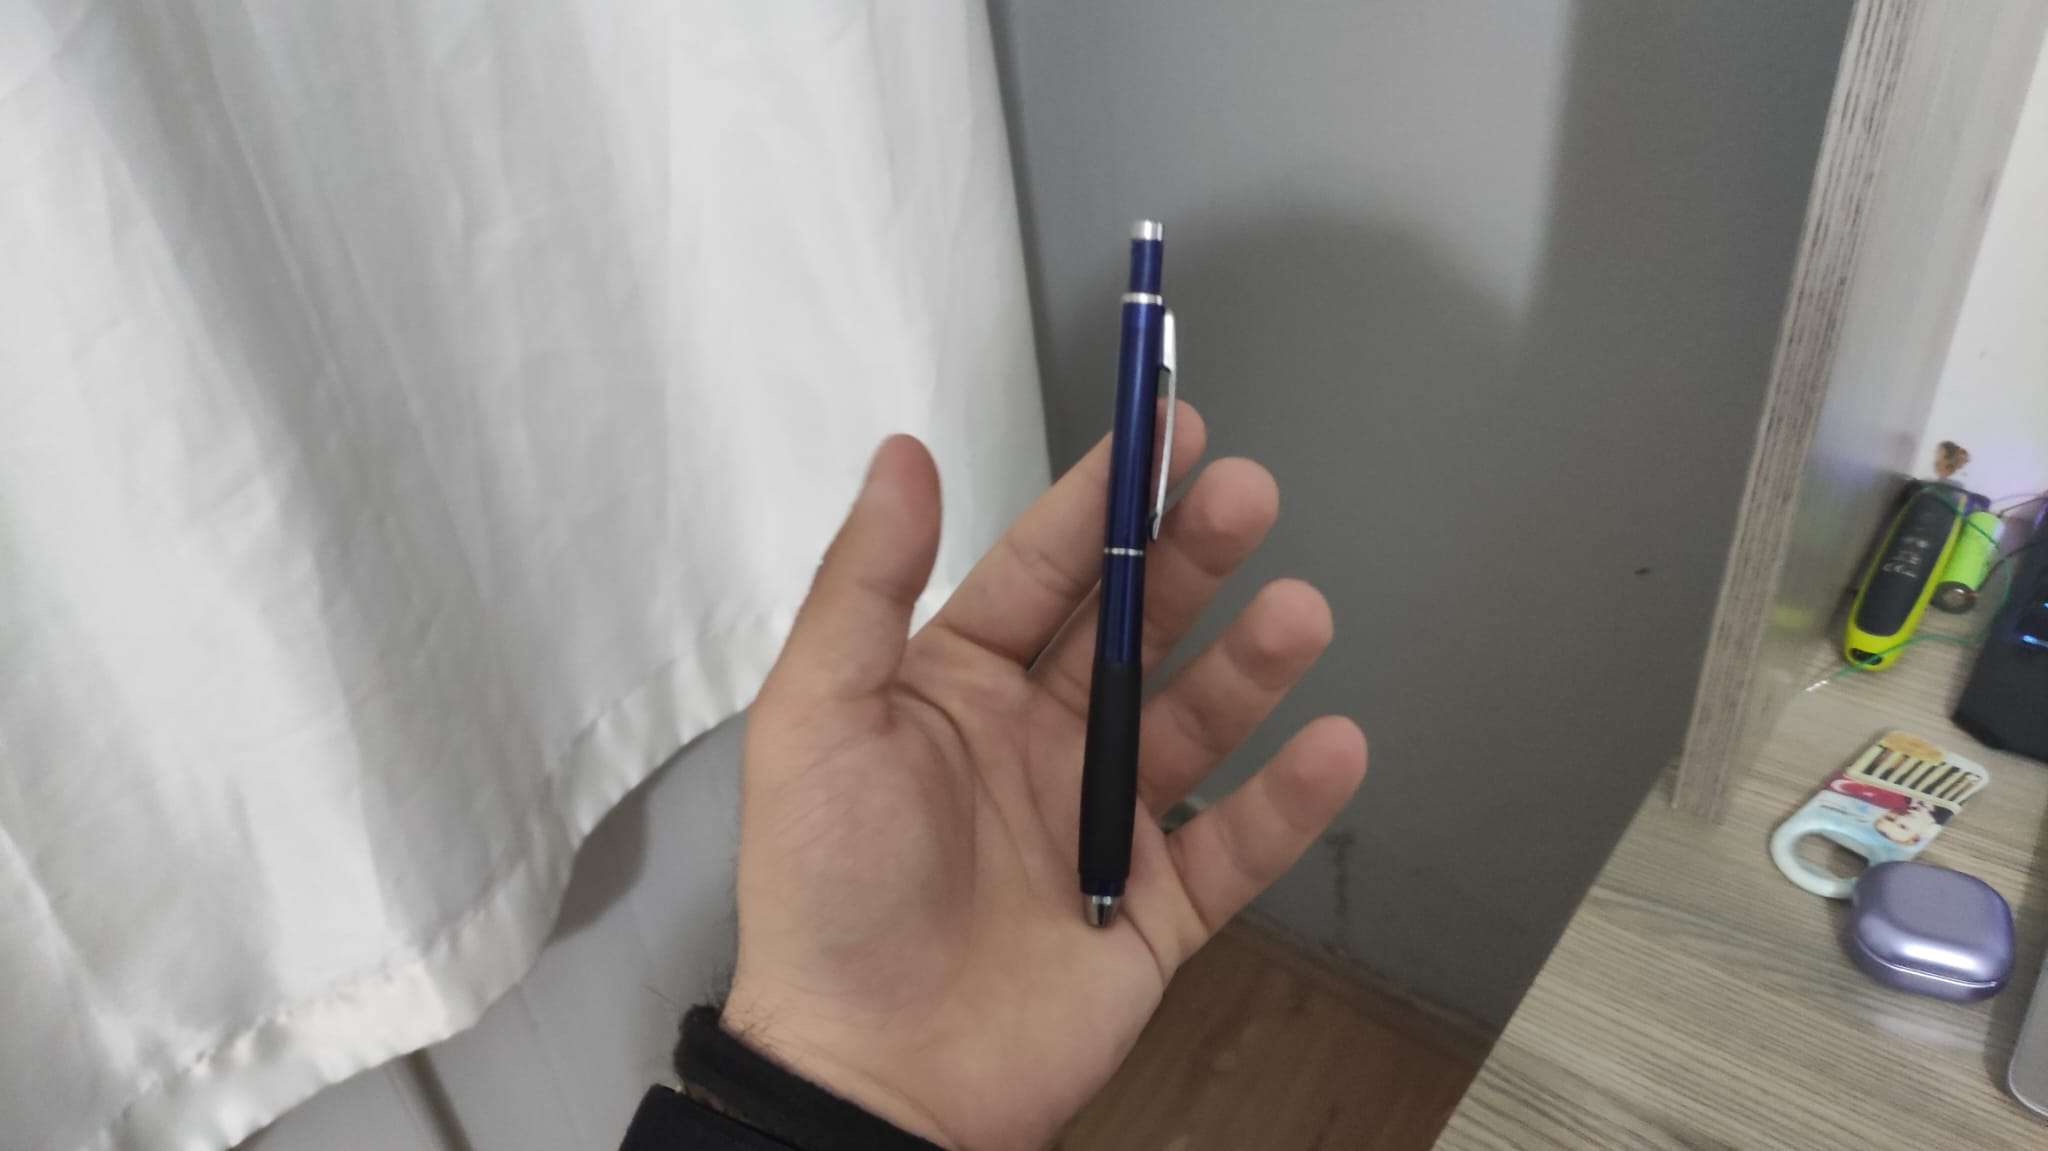kalem: (1077, 217, 1182, 931)
